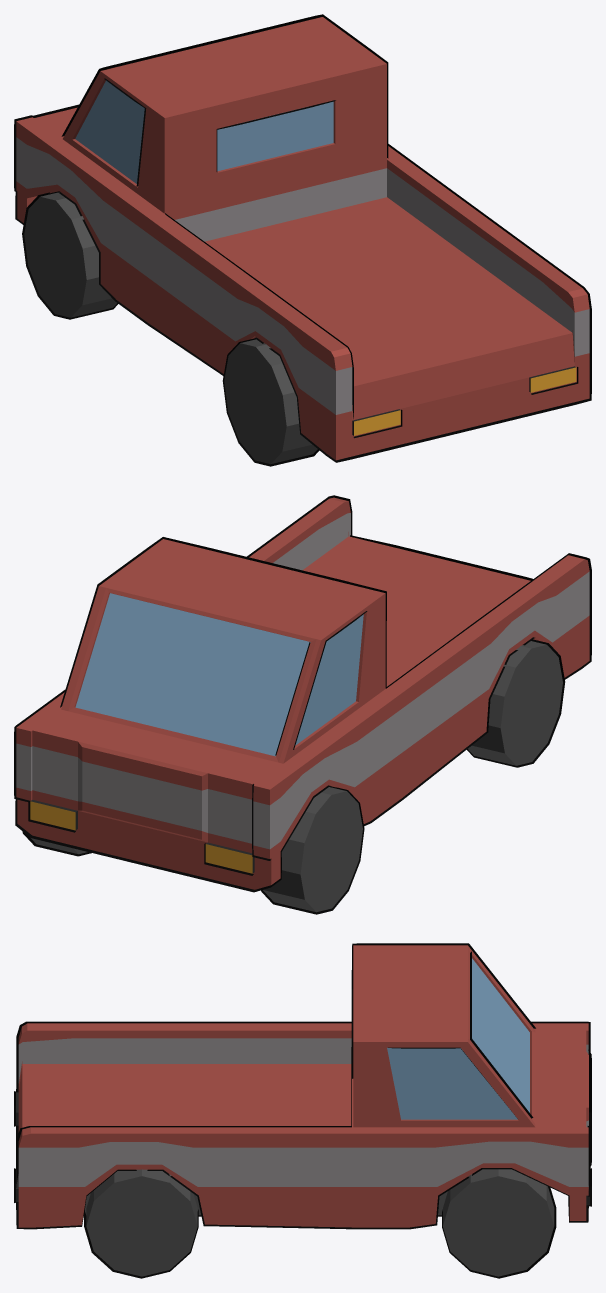
File: Truck.fbx
The picture shows the model from 3 angles, top to bottom: view 1: azimuth 30°, elevation 25°; view 2: azimuth 150°, elevation 25°; view 3: azimuth 270°, elevation 25°; orthographic projection. The views are drawn at different scales.
Visible parts, largest first — view 1: Cylinder.002; view 2: Cylinder.002; view 3: Cylinder.002.
Part boxes in pixels (x1,y1,x2,y2): Cylinder.002: (14,14,591,466); Cylinder.002: (14,495,591,914); Cylinder.002: (14,943,591,1278).
Bounding box in the file's own units: 242 × 207 × 480.
